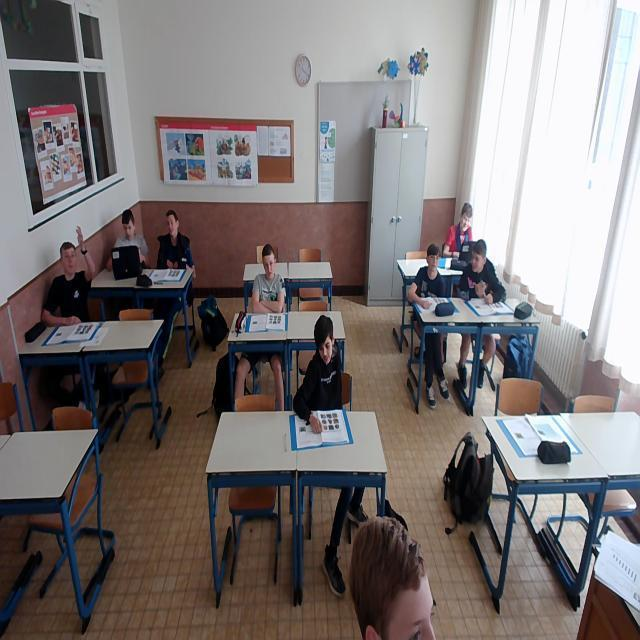Looking away: (166, 214, 179, 236), (122, 220, 136, 240), (472, 251, 484, 273)
Looking forward: (264, 254, 276, 279), (428, 254, 440, 272)
Raising hand: (46, 219, 95, 343)
Reading-writing: (286, 318, 354, 448)
